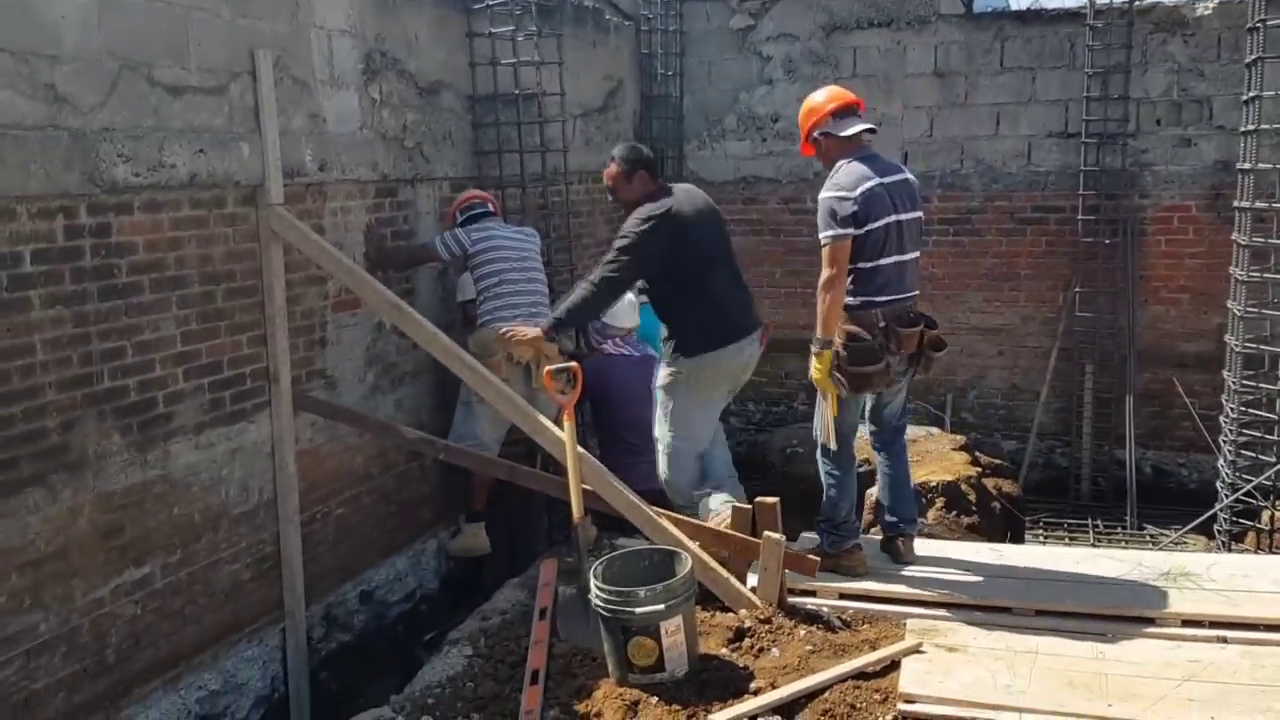helmet: (796, 86, 863, 160), (605, 288, 641, 334)
helmet-off: (600, 138, 666, 215)
helmet-on: (796, 85, 878, 171), (587, 285, 642, 360), (445, 183, 502, 230)
person: (509, 137, 771, 537), (360, 176, 554, 577), (804, 91, 932, 571), (559, 289, 683, 514)
